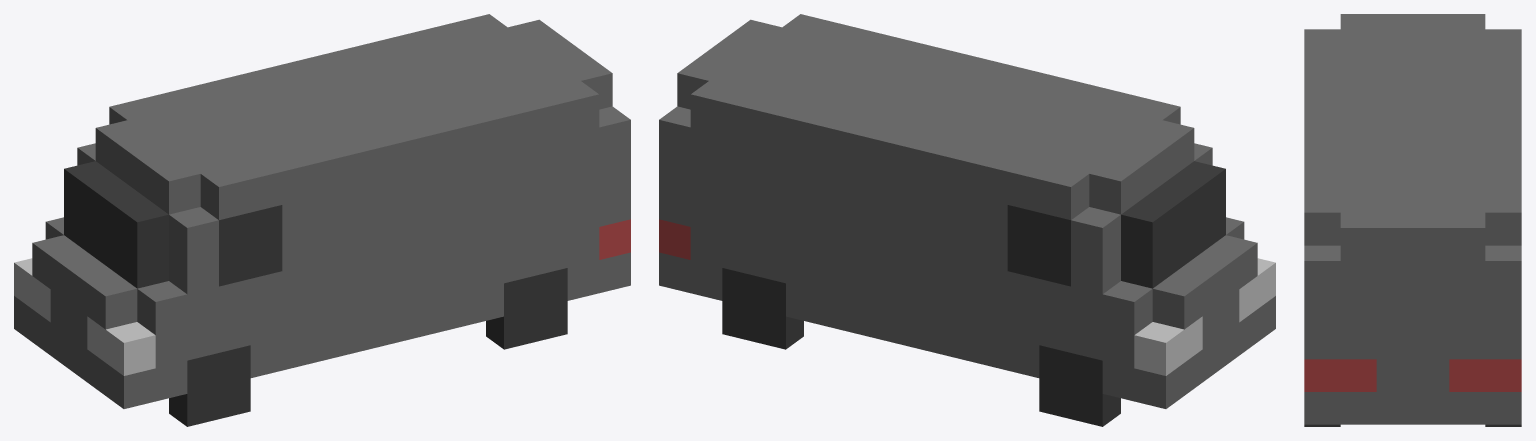
The model's file is truck-v1-grey.gltf.
3 renders of one model, left to right at view 1: azimuth 30°, elevation 25°; view 2: azimuth 150°, elevation 25°; view 3: azimuth 270°, elevation 25°, orthographic.
Parts seen in each view (by area): view 1: model, wheels; view 2: model, wheels; view 3: model, wheels.
Part boxes in pixels (bbox=[...]): model: bbox=[14, 14, 630, 408]; wheels: bbox=[169, 268, 567, 426]; model: bbox=[659, 14, 1275, 408]; wheels: bbox=[722, 268, 1120, 426]; model: bbox=[1304, 14, 1521, 424]; wheels: bbox=[1304, 424, 1521, 426].
Size of the model in its own units: 1.6 by 0.7 by 0.6.
Materials: 2 (2 with a texture image).
